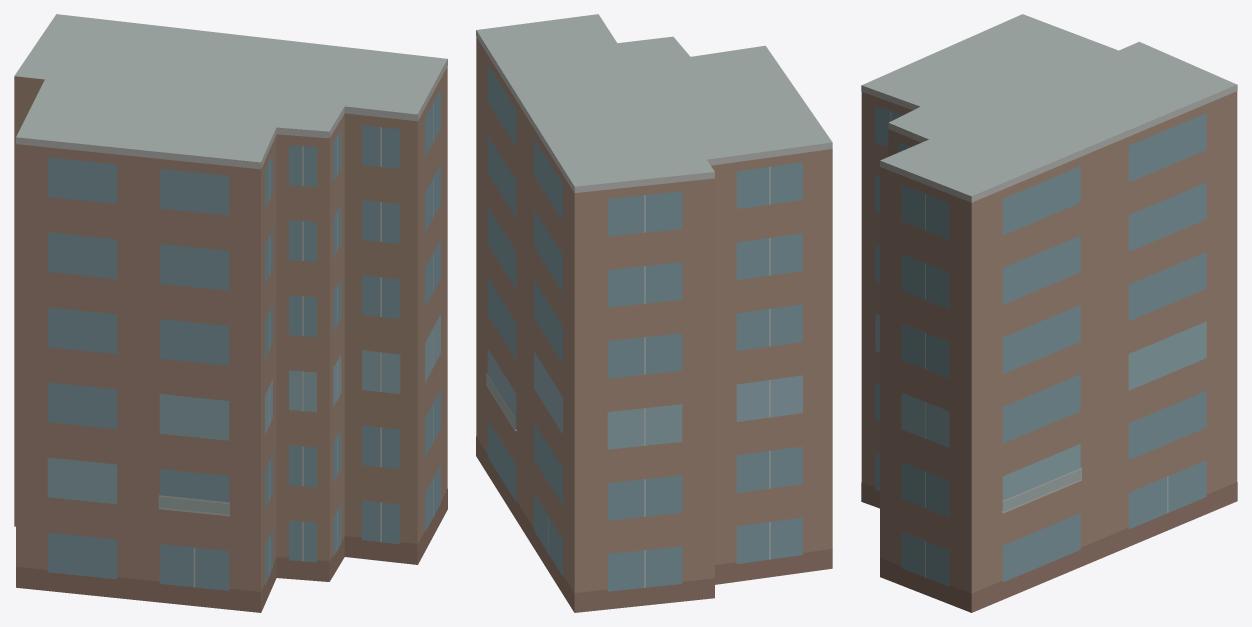
The model's file is survey-upis-32930434.glb.
The picture shows the model from 3 angles, left to right: view 1: azimuth 30°, elevation 25°; view 2: azimuth 150°, elevation 25°; view 3: azimuth 270°, elevation 25°; orthographic projection. The views are drawn at different scales.
Visible parts, largest first — view 1: survey-upis-32930434.tmp; view 2: survey-upis-32930434.tmp; view 3: survey-upis-32930434.tmp.
Boxes of the visible parts, x1,y1,x2,y2 form: survey-upis-32930434.tmp: [14, 14, 447, 612]; survey-upis-32930434.tmp: [476, 14, 832, 612]; survey-upis-32930434.tmp: [861, 14, 1237, 612].
Bounding box in the file's own units: 15.13 × 16.1 × 13.18.
